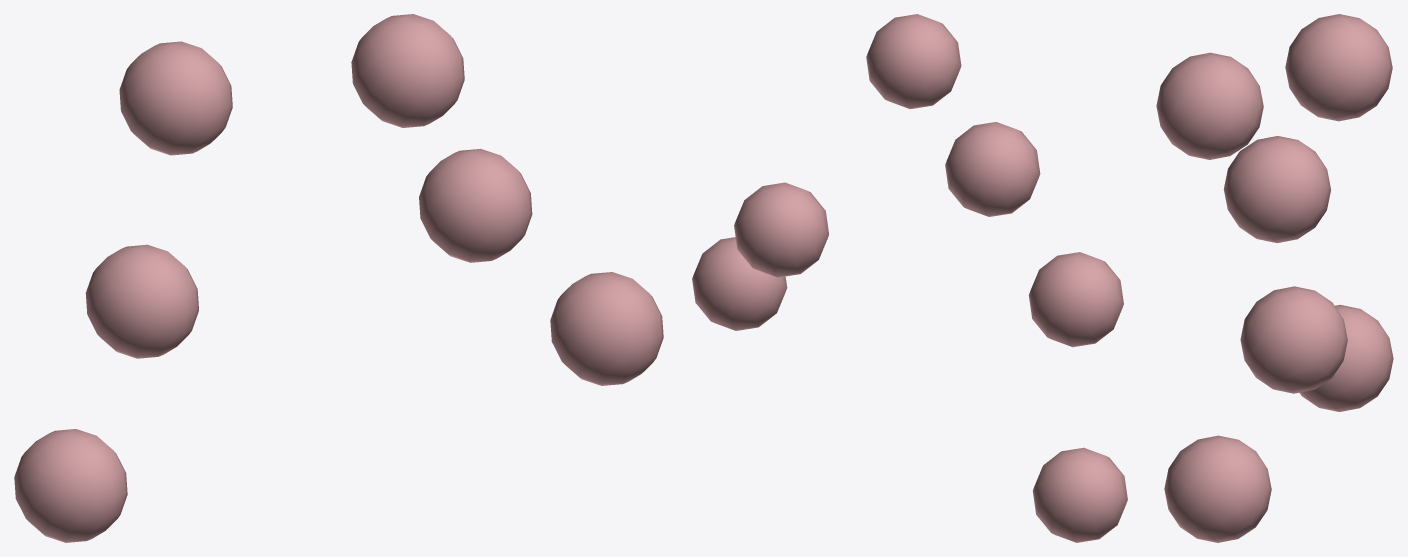
The picture shows the model from 3 angles, left to right: view 1: azimuth 30°, elevation 25°; view 2: azimuth 150°, elevation 25°; view 3: azimuth 270°, elevation 25°; orthographic projection. The views are drawn at different scales.
Visible parts, largest first — view 1: ZA_47661ae08ca79374; view 2: ZA_47661ae08ca79374; view 3: ZA_47661ae08ca79374.
Part boxes in pixels (<box>): ZA_47661ae08ca79374: <box>14,14,663,542</box>; ZA_47661ae08ca79374: <box>692,14,1127,542</box>; ZA_47661ae08ca79374: <box>1156,14,1393,542</box>.
Size of the model in its own units: 0.0148 by 0.0126 by 0.00574.
